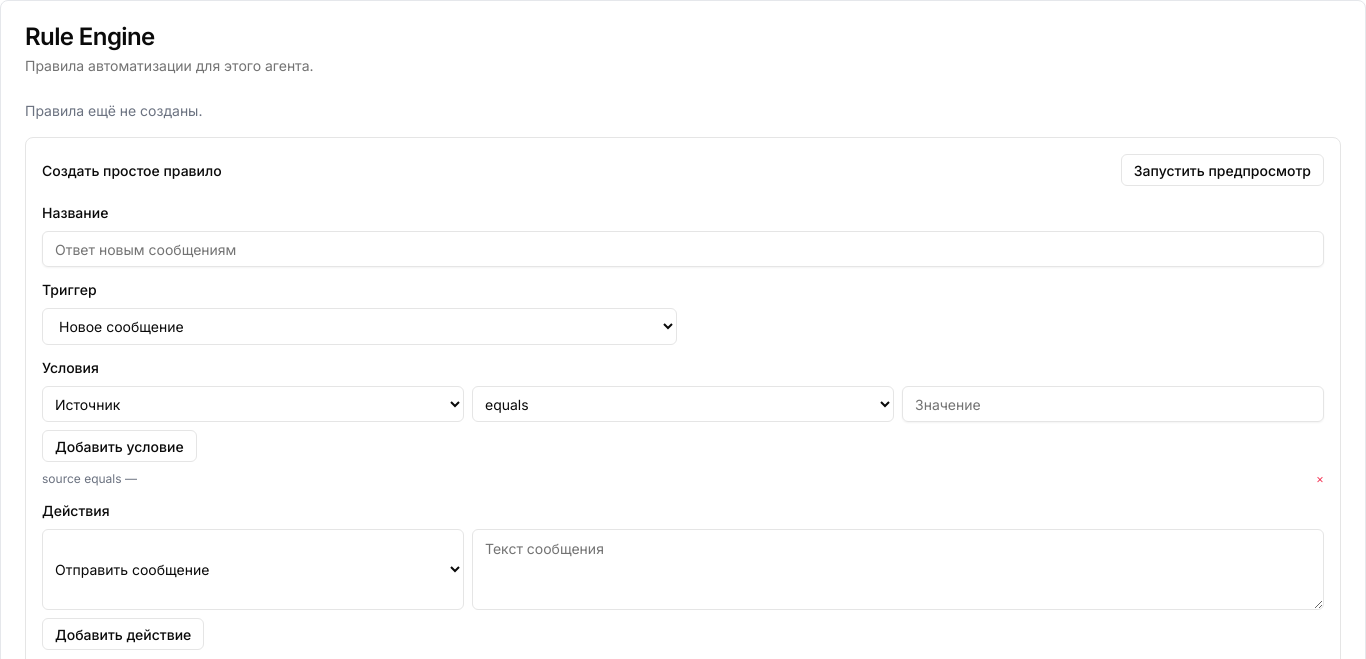
Test: AgentRules component › supports adding an action and shows it in the preview list
Expected: the text "Правила ещё не созданы." is shown, [25, 102, 202, 119]
Select "Сменить этап" in the dropdown with test id "rule-action-type". click: (253, 570)
box: [42, 529, 464, 610]
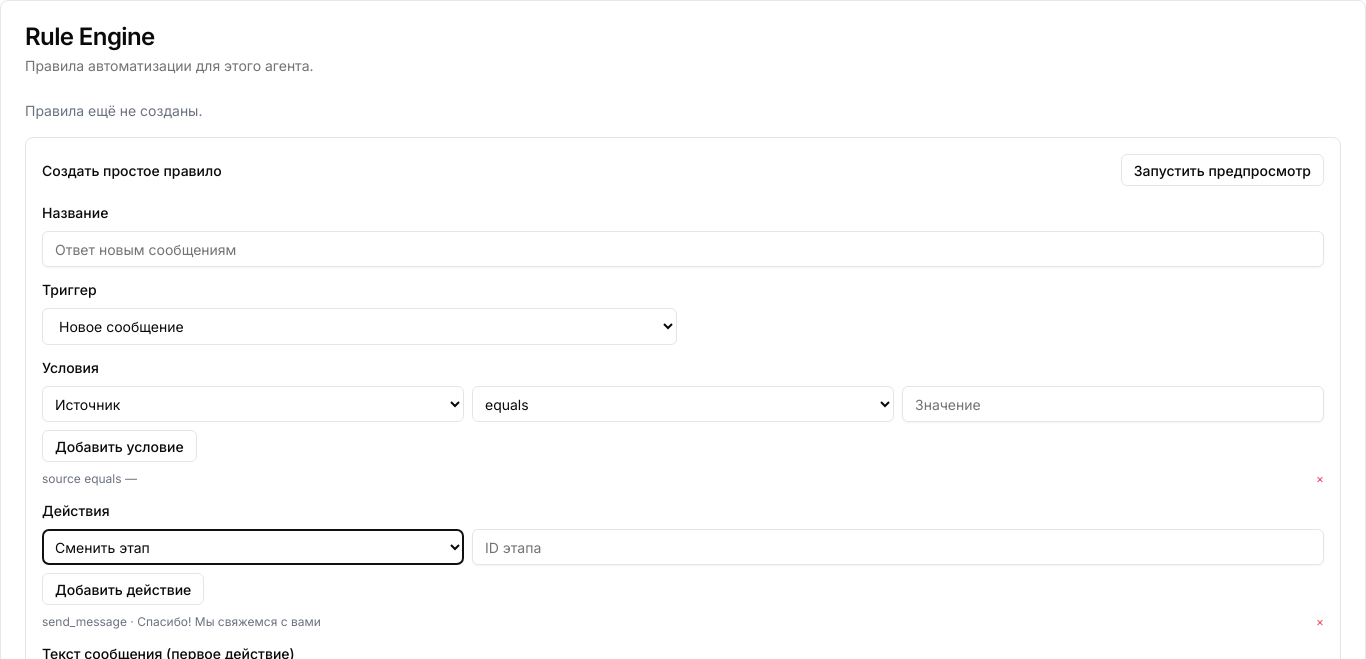
Type "142" into the field with placeholder "ID этапа". click: (898, 547)
box: [472, 529, 1324, 565]
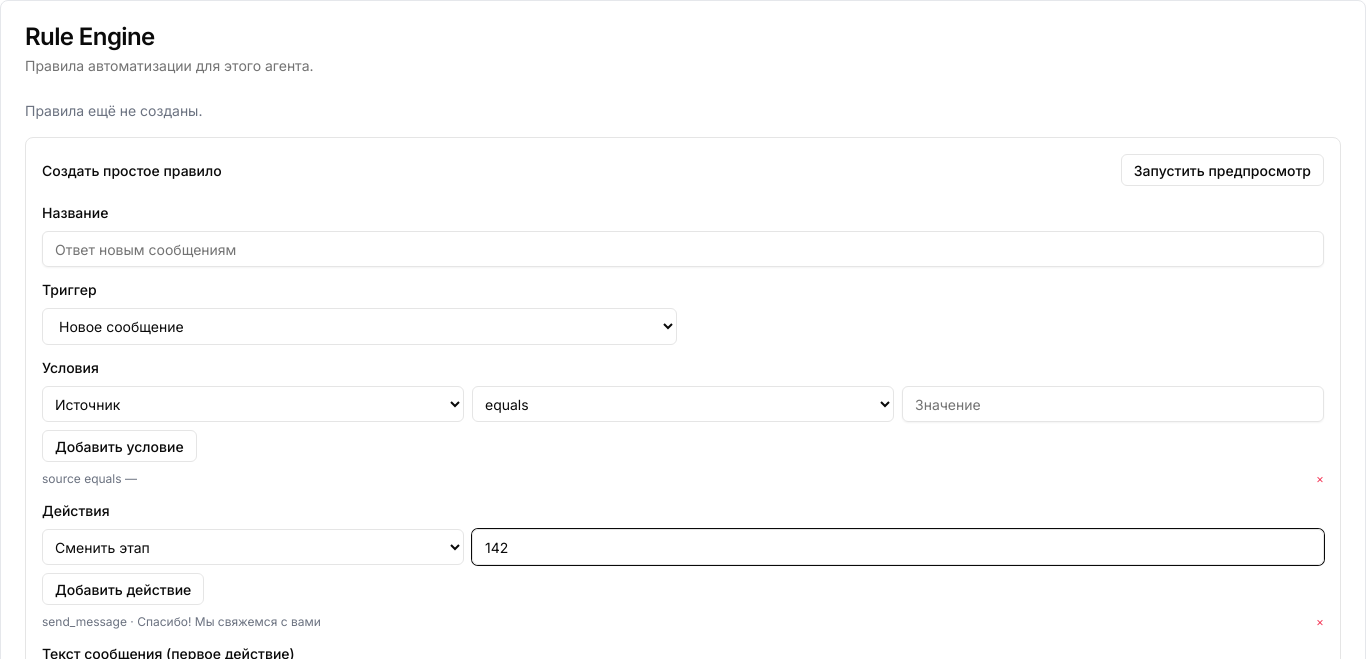
Click the button "Добавить действие". click: (123, 589)
box: [42, 573, 204, 605]
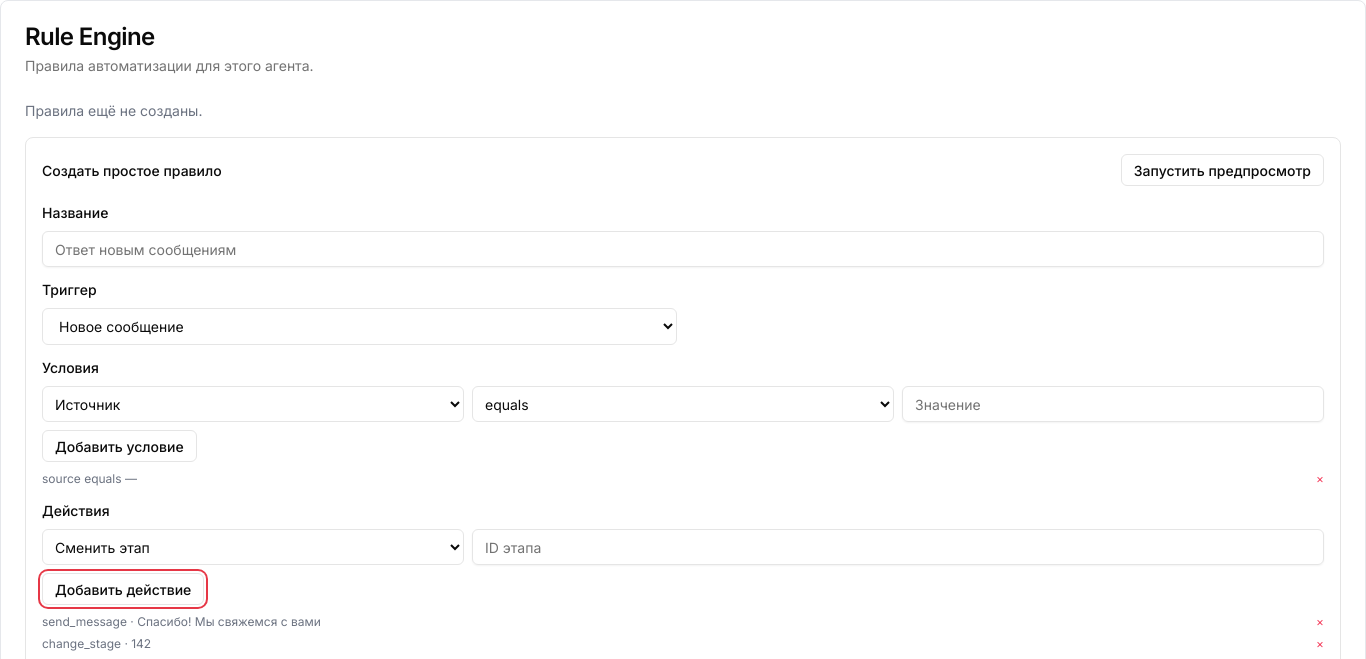
Now the text "change_stage · 142" is shown, box [42, 635, 151, 653]
